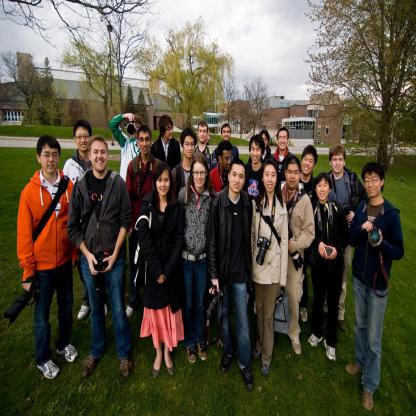face: (91, 142, 109, 172), (42, 145, 61, 173), (230, 164, 246, 193), (365, 173, 382, 198), (157, 170, 171, 196), (264, 165, 277, 193), (194, 164, 207, 189), (77, 128, 91, 151), (287, 165, 300, 188), (317, 179, 330, 201), (140, 131, 152, 154), (184, 136, 196, 159), (303, 155, 316, 175), (251, 143, 262, 165), (332, 155, 345, 173), (222, 150, 233, 171), (279, 132, 289, 150), (165, 122, 174, 139), (199, 126, 208, 142), (223, 127, 231, 141), (262, 135, 269, 149), (134, 122, 141, 135)
